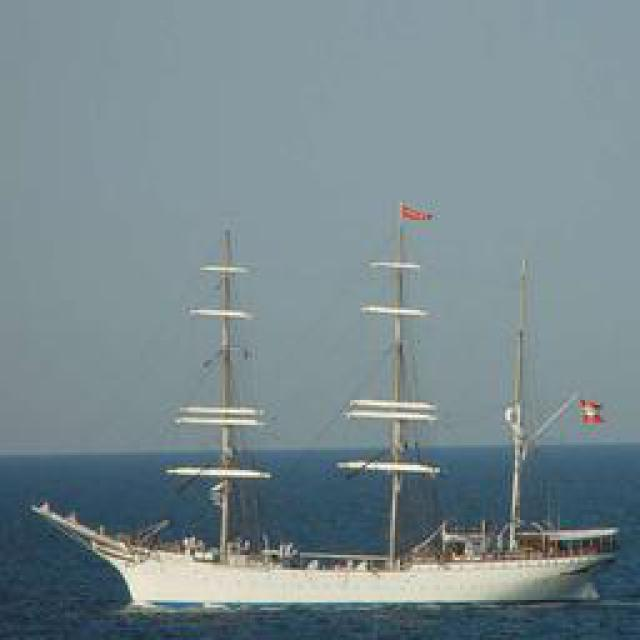Ship: (27, 189, 627, 613)
